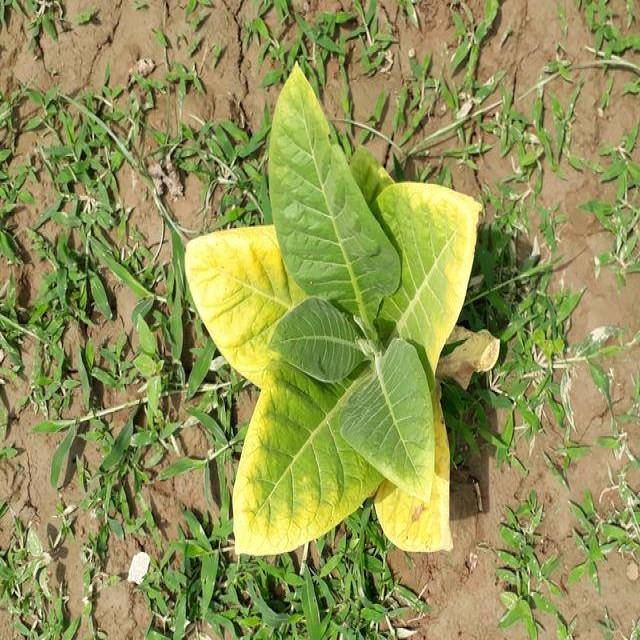crop: (176, 62, 506, 584)
